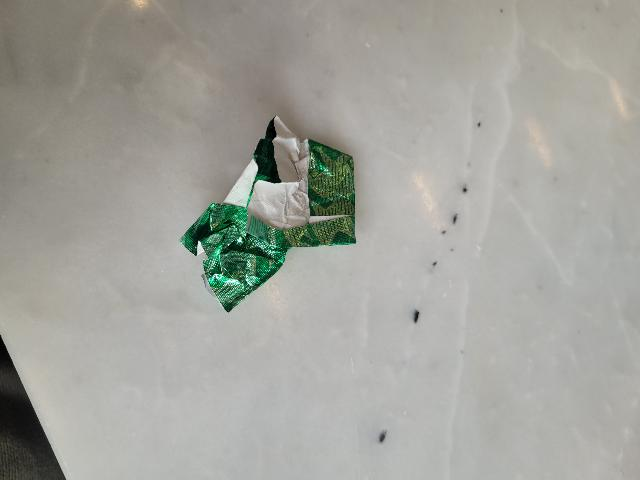Kagit: (179, 106, 367, 307)
